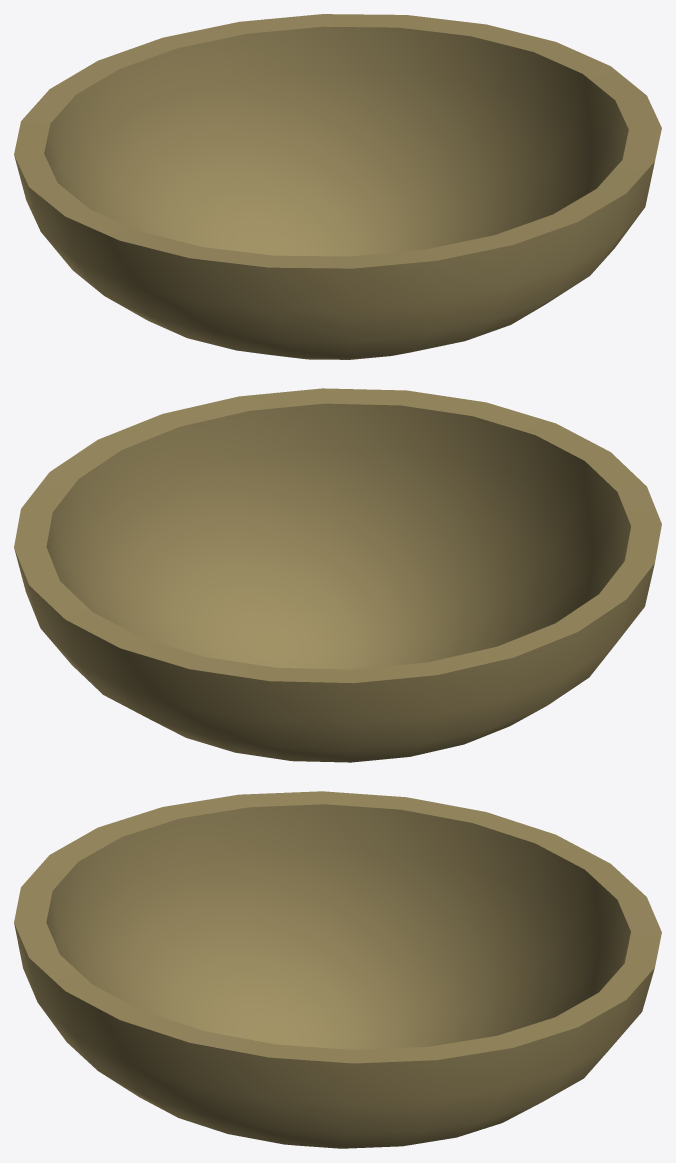
The model's file is bowl.dae.
3 views of the same model, one above another, from view 1: azimuth 30°, elevation 25°; view 2: azimuth 150°, elevation 25°; view 3: azimuth 270°, elevation 25° (orthographic).
Parts seen in each view (by area): view 1: Bowl; view 2: Bowl; view 3: Bowl.
Boxes of the visible parts, left/top/right/bottom form: Bowl: left=14, top=14, right=661, bottom=359; Bowl: left=14, top=388, right=661, bottom=762; Bowl: left=14, top=791, right=661, bottom=1148.
Size of the model in its own units: 0.2997 by 0.2994 by 0.0959.
